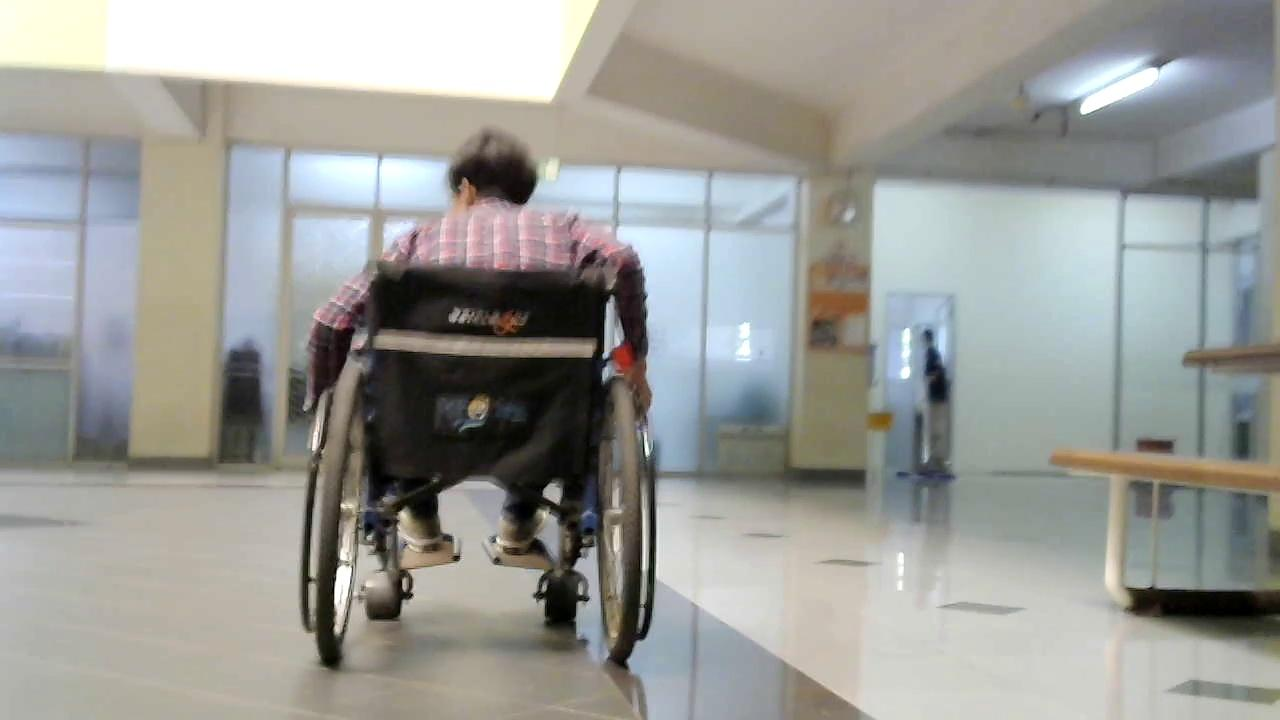person: (302, 126, 653, 539)
wheelchair: (267, 234, 691, 687)
